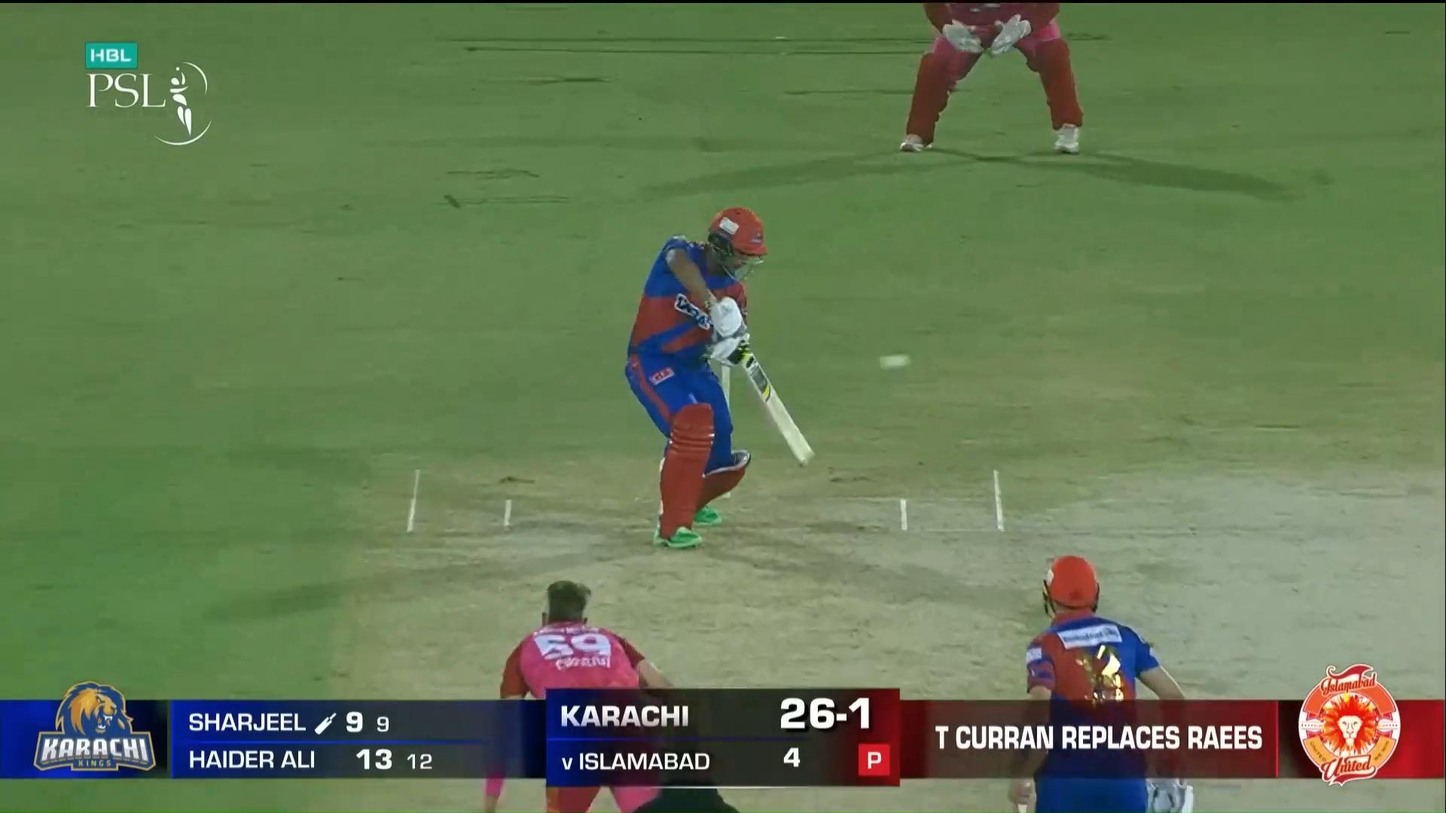batsman: (623, 205, 815, 549)
